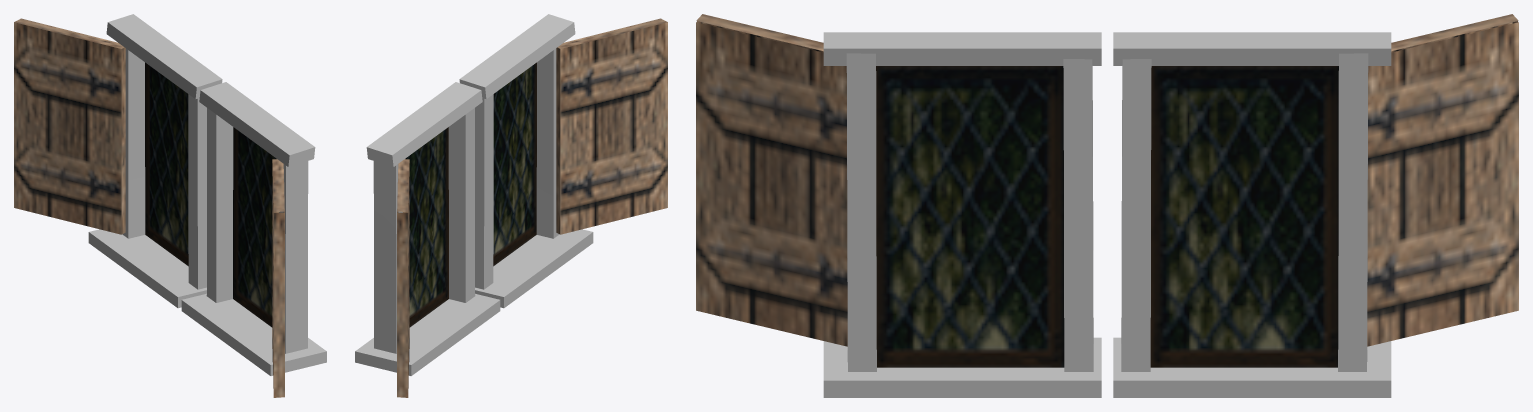
File: windowCity07.FBX
3 renders of one model, left to right at view 1: azimuth 30°, elevation 25°; view 2: azimuth 150°, elevation 25°; view 3: azimuth 270°, elevation 25°, orthographic. The views are drawn at different scales.
Visible parts, largest first — view 1: WindowCity07; view 2: WindowCity07; view 3: WindowCity07.
Boxes of the visible parts, x1,y1,x2,y2 form: WindowCity07: [14, 14, 326, 397]; WindowCity07: [355, 14, 667, 397]; WindowCity07: [696, 14, 1518, 397].
Size of the model in its own units: 57.95 by 287 by 131.
